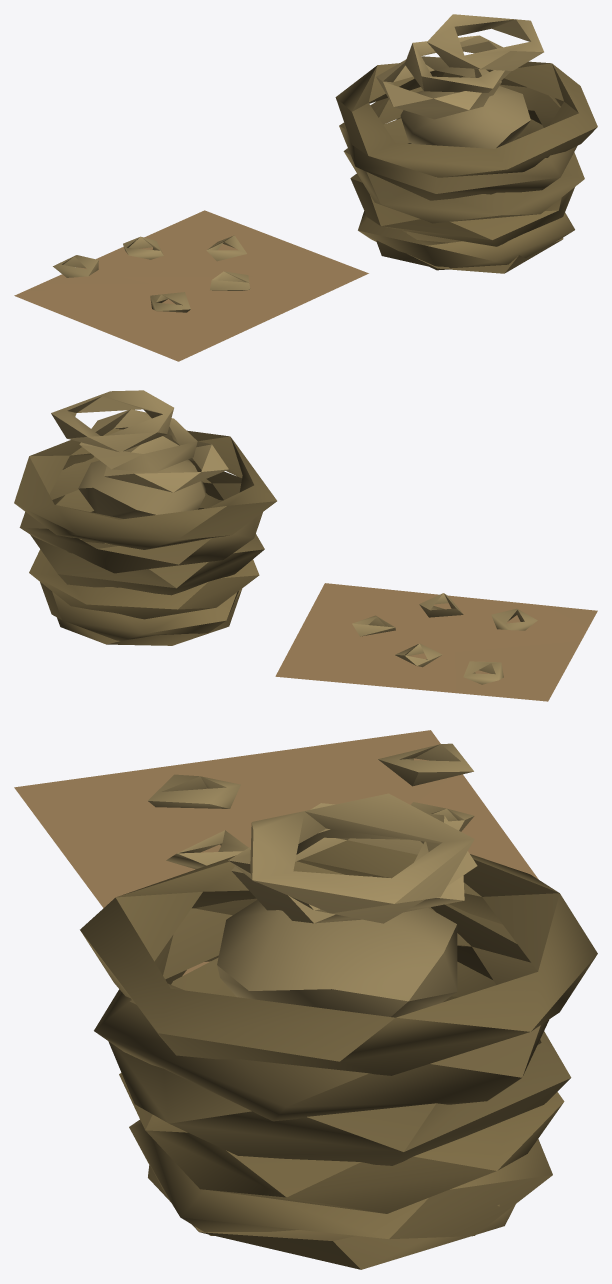
File: knot_board_b_lod2.glb
The picture shows the model from 3 angles, top to bottom: view 1: azimuth 30°, elevation 25°; view 2: azimuth 150°, elevation 25°; view 3: azimuth 270°, elevation 25°; orthographic projection. The views are drawn at different scales.
Parts seen in each view (by area): view 1: Surface.001; view 2: Surface.001; view 3: Surface.001.
Part boxes in pixels (left/top/right/bottom): Surface.001: left=14, top=14, right=597, bottom=361; Surface.001: left=14, top=390, right=597, bottom=701; Surface.001: left=14, top=730, right=597, bottom=1269.
Size of the model in its own units: 3.35 by 1.15 by 1.61.
